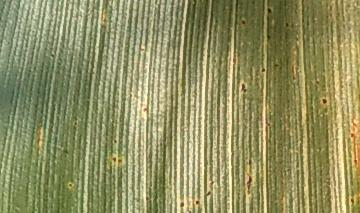tarspot: (246, 173, 254, 195), (347, 194, 358, 208), (109, 137, 123, 147), (175, 198, 187, 209), (264, 5, 275, 17), (238, 81, 248, 94), (191, 197, 202, 208), (108, 154, 119, 164), (281, 19, 291, 30), (320, 96, 330, 106), (259, 65, 268, 76), (238, 16, 247, 27), (65, 181, 76, 190), (247, 157, 254, 169), (265, 31, 273, 41)
